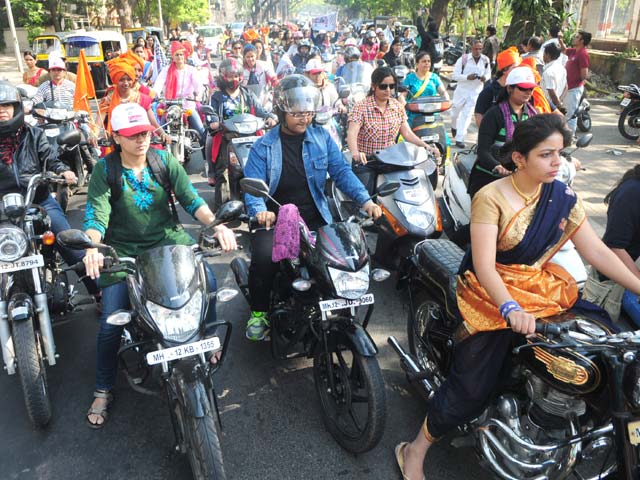helmet: (277, 77, 325, 129), (219, 55, 244, 89)
